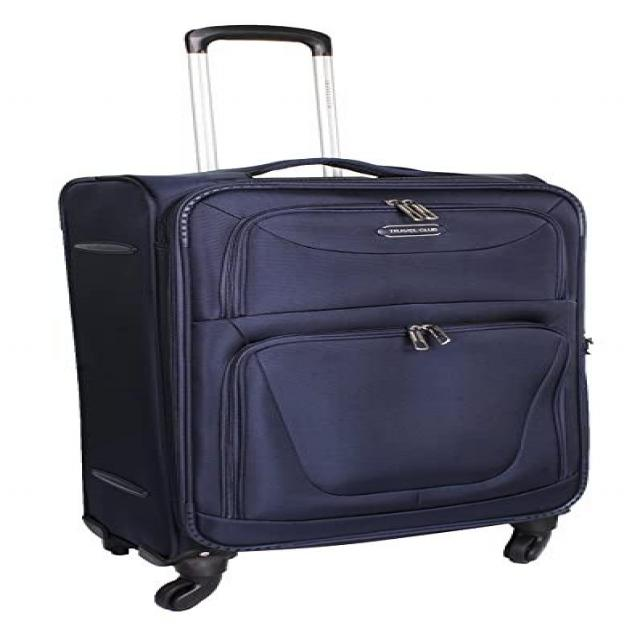luggage: (50, 151, 601, 567)
